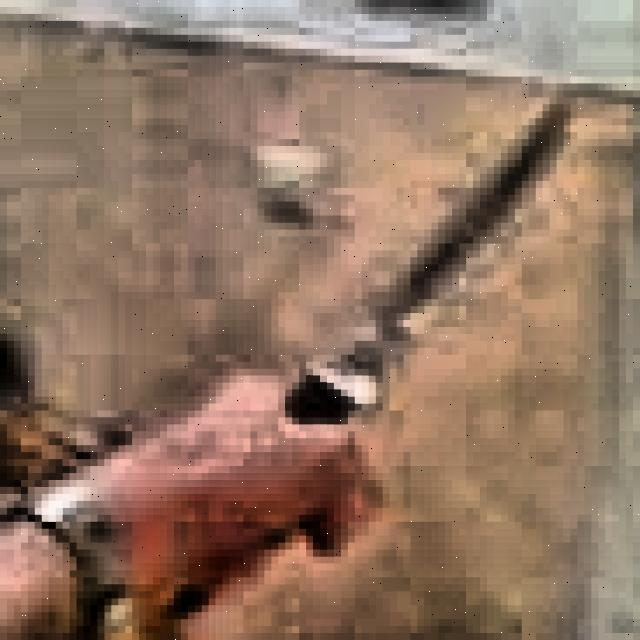knife: (125, 97, 578, 640)
